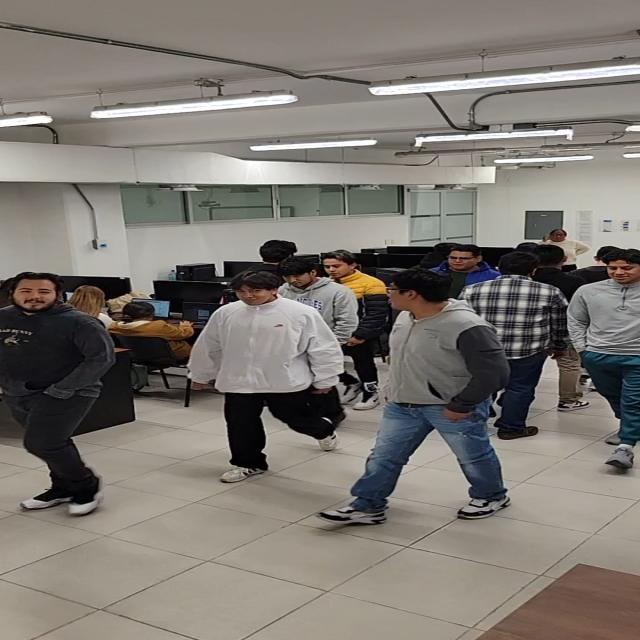Persona: (194, 269, 358, 481), (380, 270, 507, 528), (9, 270, 128, 526), (482, 249, 556, 442), (583, 246, 640, 452)
